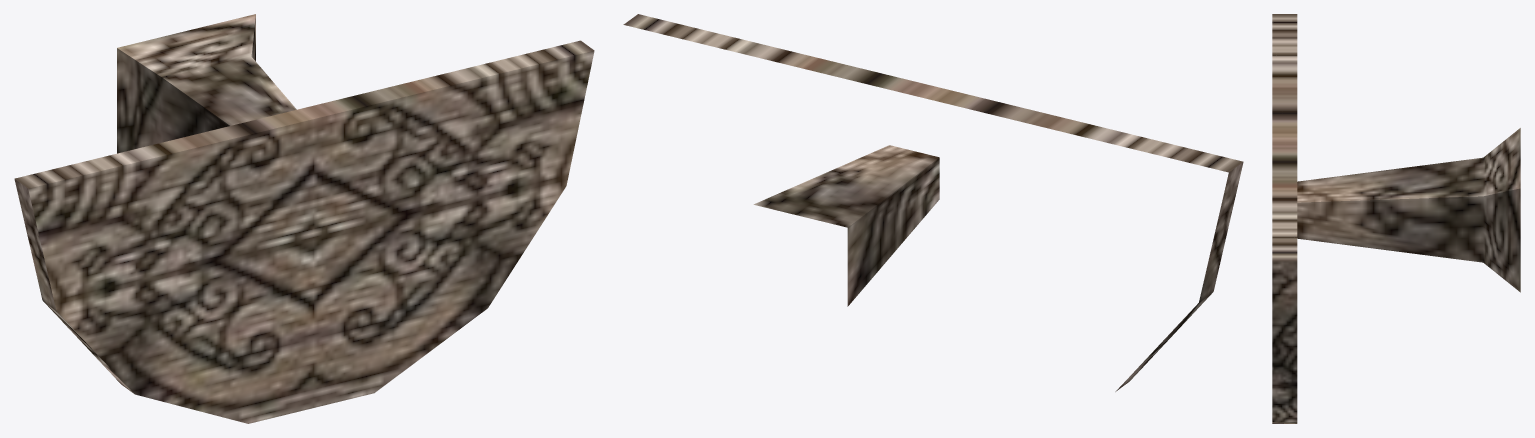
Rendered from Furniture04.glb.
3 renders of one model, left to right at view 1: azimuth 30°, elevation 25°; view 2: azimuth 150°, elevation 25°; view 3: azimuth 270°, elevation 25°, orthographic. The views are drawn at different scales.
Parts seen in each view (by area): view 1: model_Furniture04; view 2: model_Furniture04; view 3: model_Furniture04.
Boxes of the visible parts, x1,y1,x2,y2 form: model_Furniture04: [14, 14, 594, 423]; model_Furniture04: [623, 14, 1243, 391]; model_Furniture04: [1272, 14, 1520, 423].
Bounding box in the file's own units: 2.04 × 0.9929 × 0.8633.
1 material, 1 textured.
